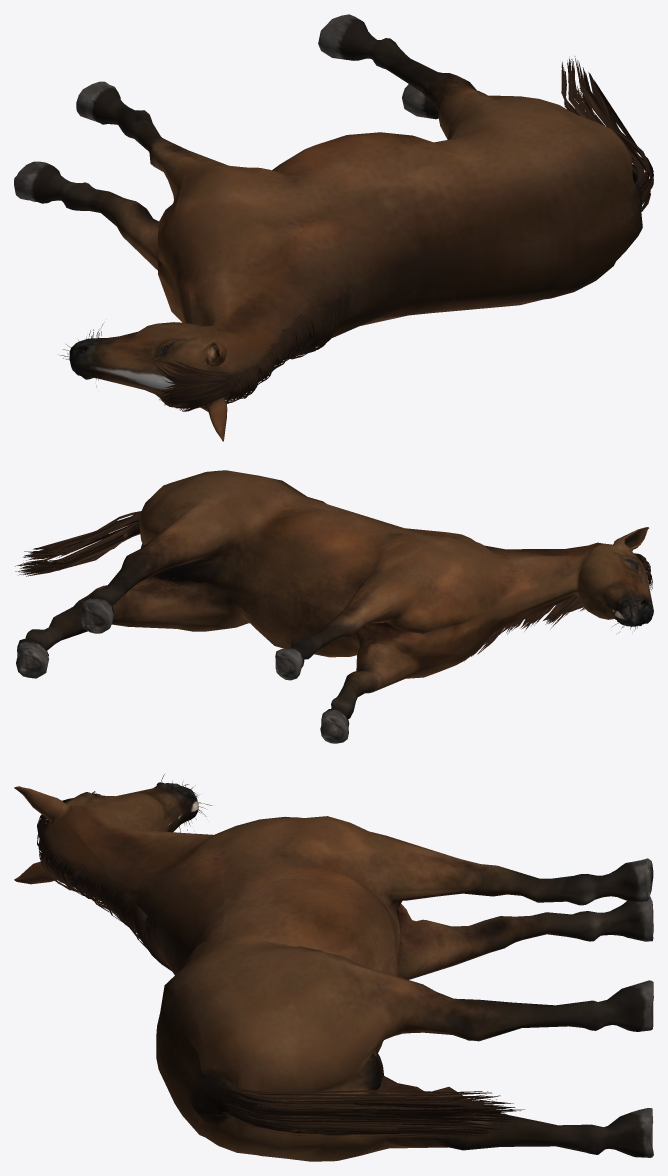
File: Horse.obj
The picture shows the model from 3 angles, top to bottom: view 1: azimuth 30°, elevation 25°; view 2: azimuth 150°, elevation 25°; view 3: azimuth 270°, elevation 25°; orthographic projection. The views are drawn at different scales.
Parts seen in each view (by area): view 1: Horse_1_Horse; view 2: Horse_1_Horse; view 3: Horse_1_Horse.
Boxes of the visible parts, box(x1,y1,x2,y2) form: Horse_1_Horse: box(14, 14, 653, 441); Horse_1_Horse: box(15, 470, 653, 743); Horse_1_Horse: box(14, 774, 653, 1161).
Size of the model in its own units: 2.35 by 0.5761 by 1.82.
